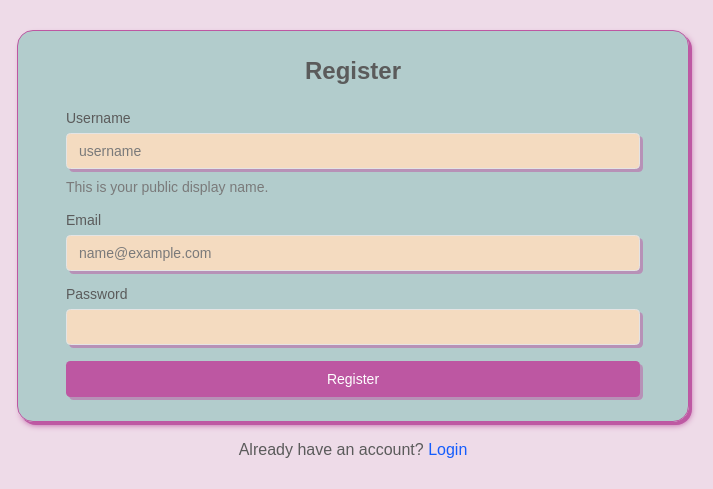
Test: Auth: Login & Registration › rejects invalid email
Type "testuser" into the field with id "username" at (353, 151), box [66,133,640,169]
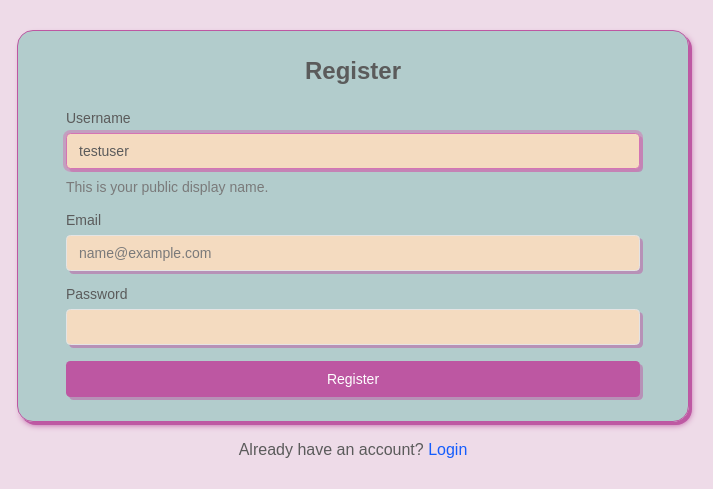
Type "teseueser@validemail.com" into the field with id "email" at (353, 253), box [66,235,640,271]
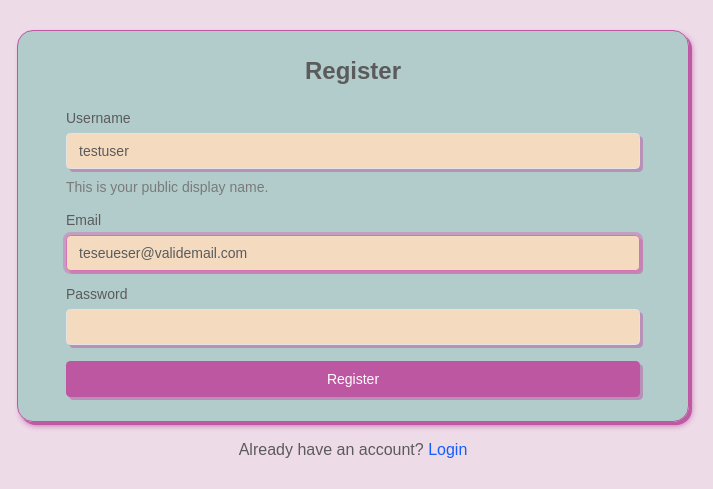
Type "123" into the password field at (353, 327), box [66,309,640,345]
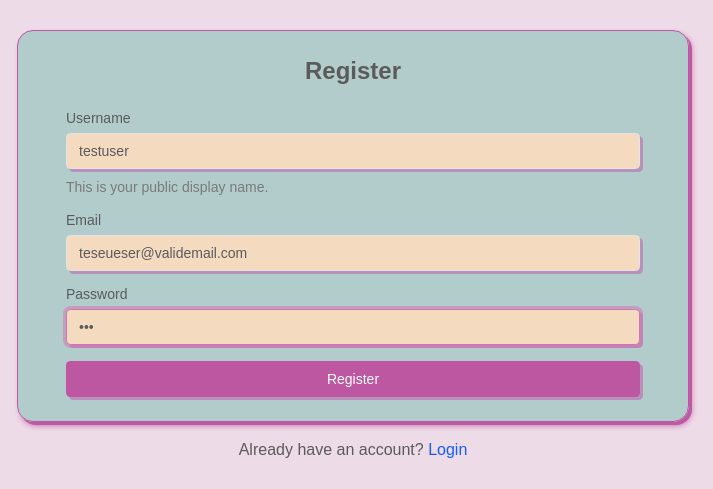
Click the submit button at (353, 379), box [66,361,640,397]
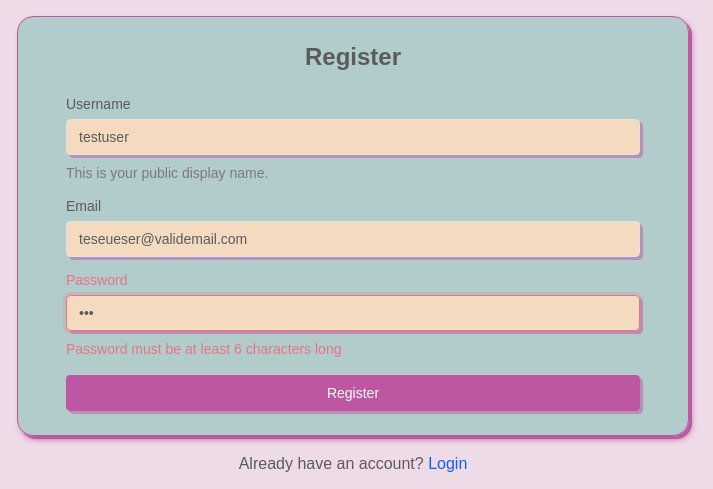
Result: the text "Password must be at least 6 characters long" is shown at [66,341,342,357]
